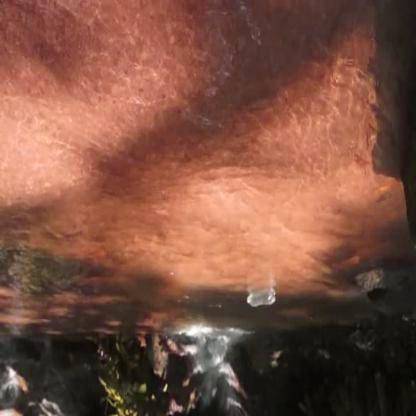Plastic: (245, 286, 276, 310)
